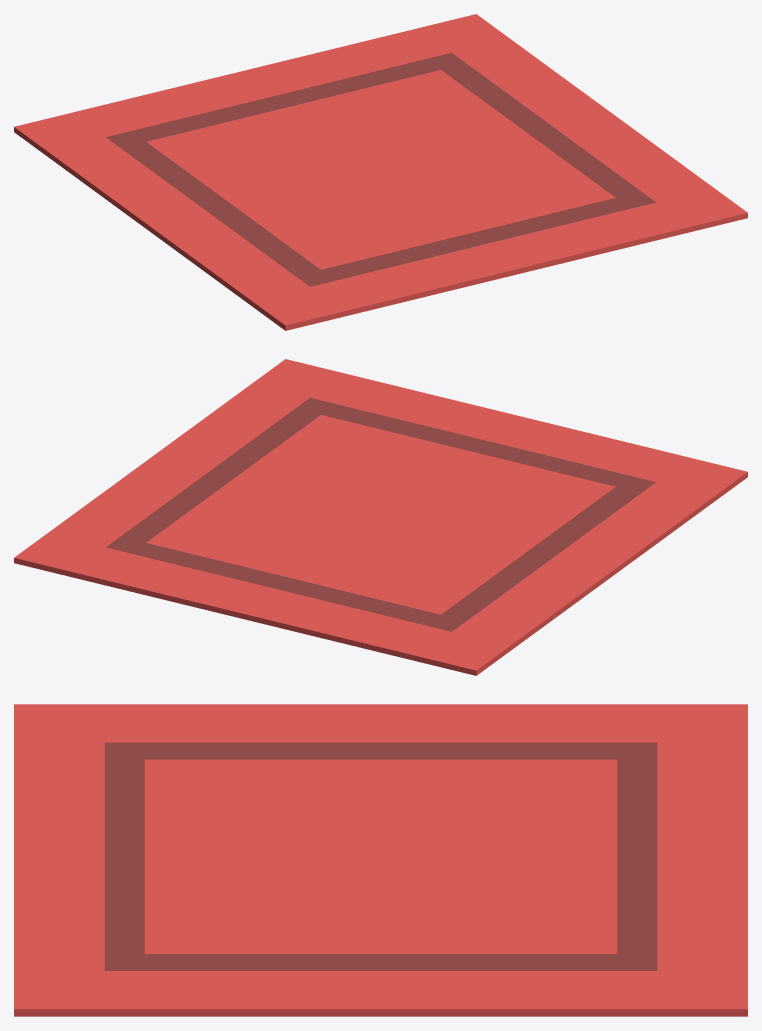
File: rugSquare.obj
3 renders of one model, top to bottom at view 1: azimuth 30°, elevation 25°; view 2: azimuth 150°, elevation 25°; view 3: azimuth 270°, elevation 25°, orthographic. The views are drawn at different scales.
Parts seen in each view (by area): view 1: rugSquare; view 2: rugSquare; view 3: rugSquare.
Part boxes in pixels (<box>): rugSquare: <box>14,14,747,330</box>; rugSquare: <box>14,359,747,675</box>; rugSquare: <box>14,704,747,1016</box>.
Bounding box in the file's own units: 0.9043 × 0.01 × 0.92.
